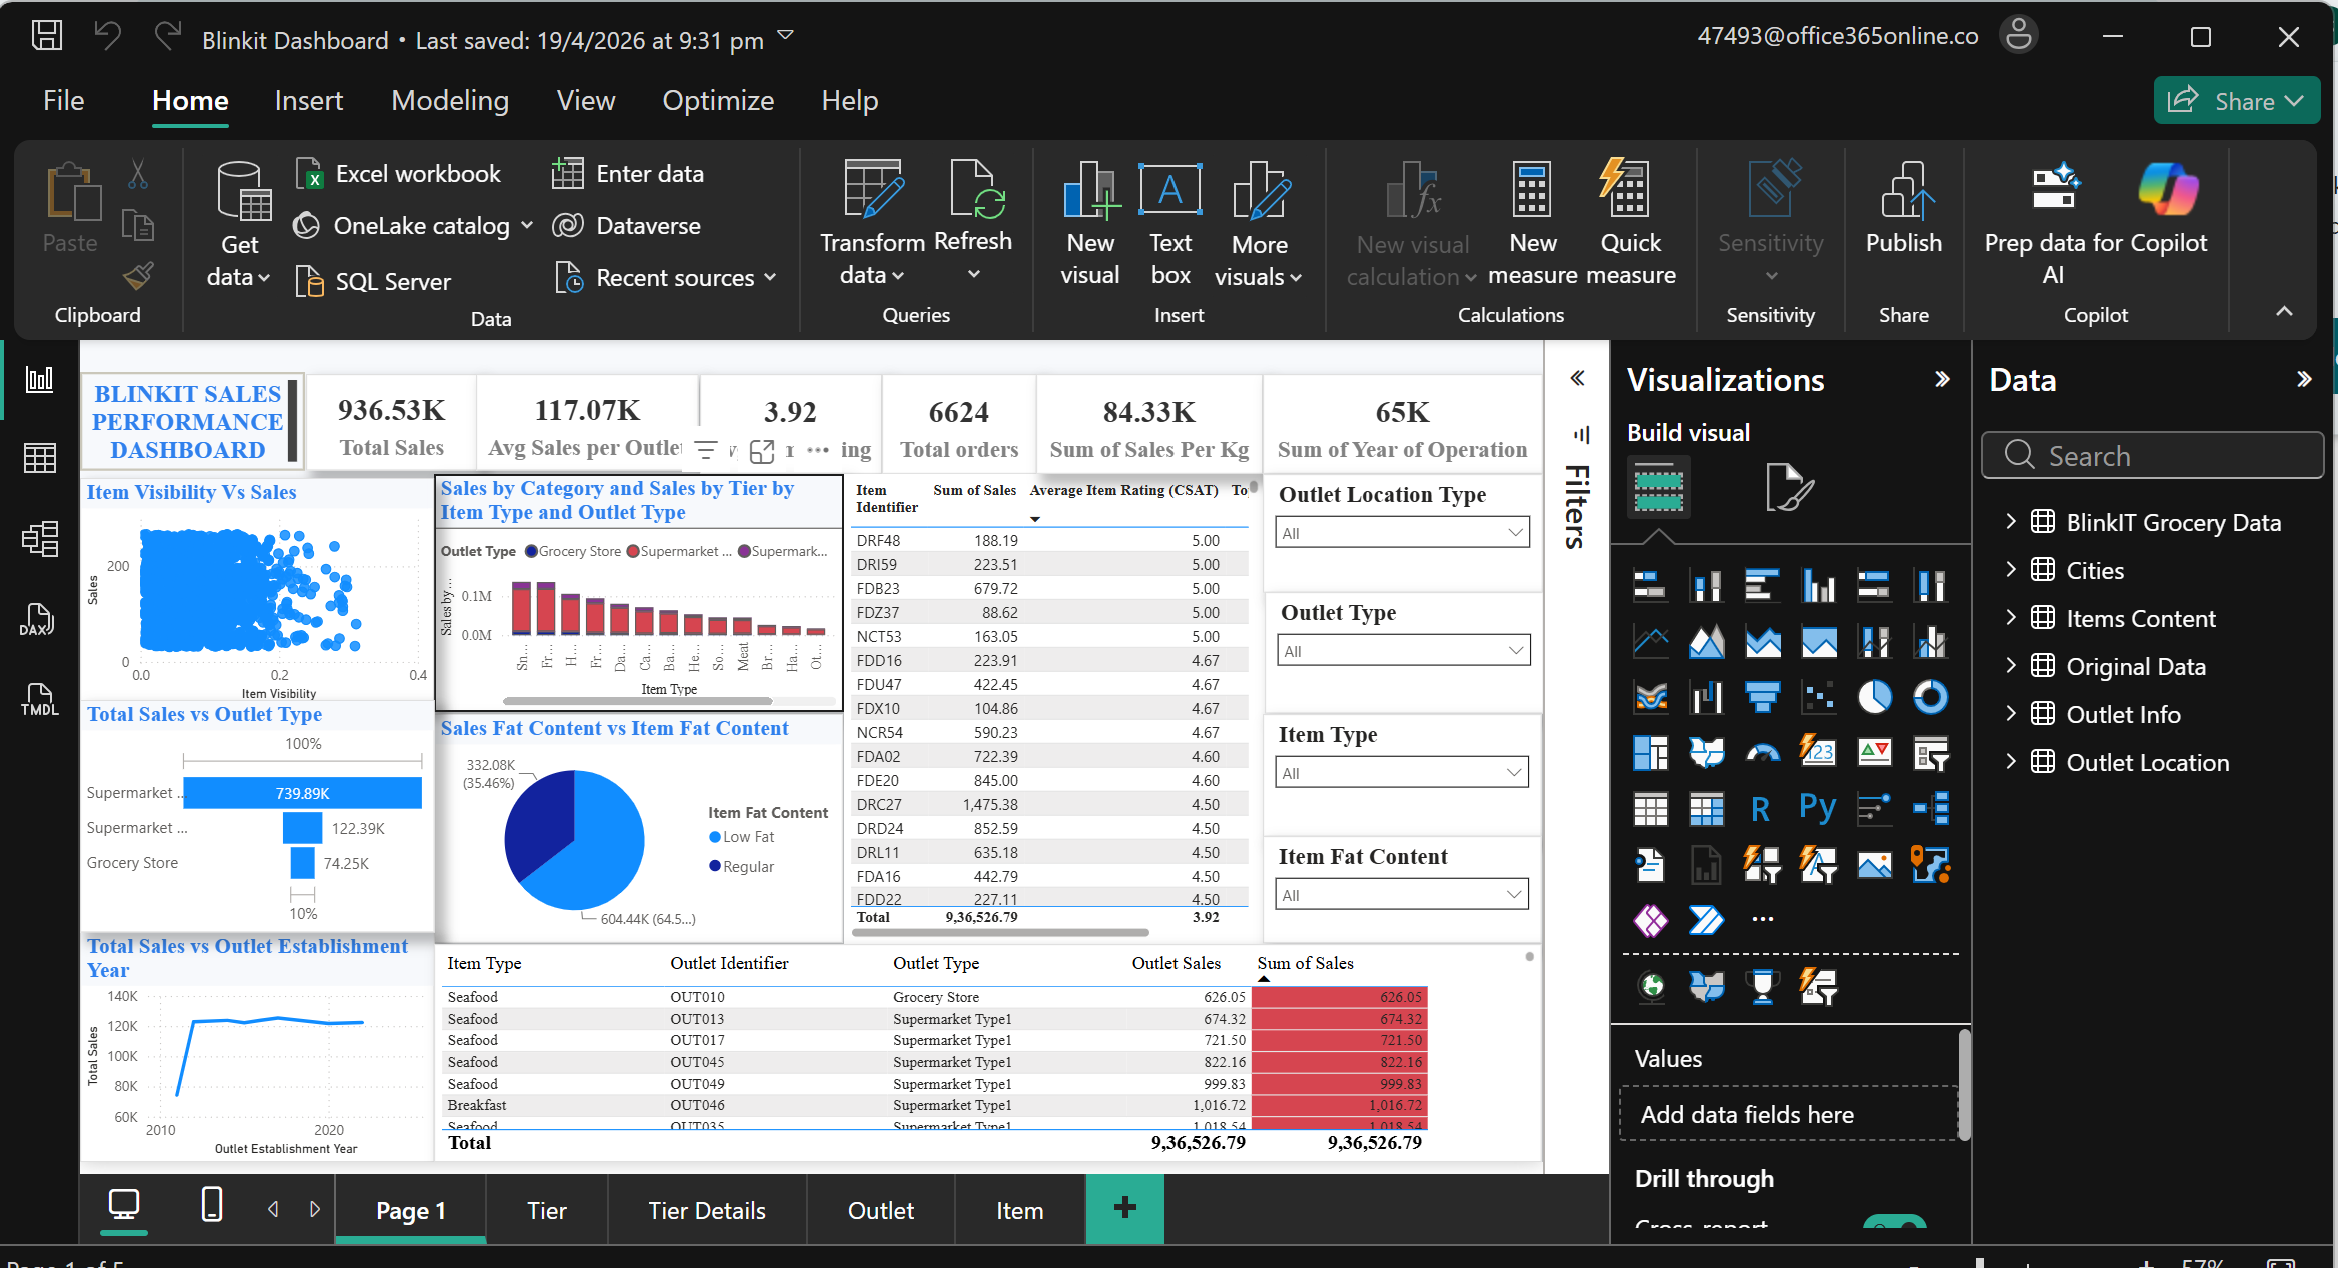

The dashboard page shown, as its layout file describes it:
{"tool":"powerbi","page":{"name":"Page 1","canvas":[1280,720],"ordinal":0},"visuals":[{"type":"card","fields":{"Values":["Original Data.Total Sales"]},"box":[197.1,29.5,150.1,84.7],"z":0},{"type":"card","fields":{"Values":["Original Data.Average Sales per Outlet"]},"box":[347.2,29.5,195.2,84.7],"z":1000},{"type":"card","fields":{"Values":["Original Data.Average Item Rating (CSAT)"]},"box":[542.4,29.5,159.3,87.5],"z":2000},{"type":"card","fields":{"Values":["Original Data.Total orders"]},"box":[701.7,29.5,135.4,87.5],"z":3000},{"type":"columnChart","fields":{"Category":["Original Data.Item Type"],"Series":["Original Data.Outlet Type"],"Y":["Original Data.Sales by Category"]},"box":[310.3,116.9,358.2,208.1],"z":4000},{"type":"pieChart","title":"Sales Fat Content vs Item Fat Content","fields":{"Category":["Original Data.Item Fat Content"],"Y":["Original Data.Sales by Fat Content"]},"box":[310.3,326.9,358.2,200.7],"z":5000},{"type":"lineChart","title":"Total Sales vs Outlet Establishment Year","fields":{"Category":["Original Data.Outlet Establishment Year"],"Y":["Original Data.Total Sales"]},"box":[0,518.4,310.3,201.7],"z":6000},{"type":"scatterChart","title":"Item Visibility Vs Sales","fields":{"X":["Original Data.Item Visibility"],"Y":["Original Data.Sales"]},"box":[0,121.1,309.8,201],"z":7000},{"type":"tableEx","fields":{"Values":["Original Data.Item Identifier","Sum(Original Data.Sales)","Original Data.Average Item Rating (CSAT)","Original Data.Top Performing Item"]},"box":[668.2,117.3,367.3,410.9],"z":8000},{"type":"funnel","title":"Total Sales vs Outlet Type","fields":{"Category":["Original Data.Outlet Type"],"Y":["Original Data.Total Sales"]},"box":[0,314.9,310.3,203.5],"z":9000},{"type":"card","fields":{"Values":["Sum(Original Data.Sales Per Kg)"]},"box":[837.1,29.5,198,87.5],"z":10000},{"type":"card","fields":{"Values":["Sum(Original Data.Year of Operation)"]},"box":[1035.1,29.5,244.9,87.5],"z":11000},{"type":"slicer","fields":{"Values":["Original Data.Outlet Location Type"]},"box":[1035,117.5,245,103.8],"z":12000},{"type":"slicer","fields":{"Values":["Original Data.Outlet Type"]},"box":[1036.2,221.2,243.8,106.2],"z":13000},{"type":"slicer","fields":{"Values":["Original Data.Item Type"]},"box":[1035,327.5,243.8,107.5],"z":14000},{"type":"slicer","fields":{"Values":["Original Data.Item Fat Content"]},"box":[1035,435,243.8,93.8],"z":15000},{"type":"tableEx","fields":{"Values":["Original Data.Item Type","Original Data.Outlet Identifier","Original Data.Outlet Type","Original Data.Outlet Sales","Sum(Original Data.Sales)"]},"box":[309.4,529.3,969.1,191.1],"z":16000},{"type":"textbox","box":[0,27.6,197.1,86.6],"z":17000}]}

Visuals, with their boxes on the page's 1280x720 design canvas (x1, y1, x2, y2). These are canvas units, not pixel positions in the 2338x1268 screenshot, which may show the page scaled, cropped or inside an application window:
card - Original Data.Total Sales: [left=197, top=30, right=347, bottom=114]
card - Original Data.Average Sales per Outlet: [left=347, top=30, right=542, bottom=114]
card - Original Data.Average Item Rating (CSAT): [left=542, top=30, right=702, bottom=117]
card - Original Data.Total orders: [left=702, top=30, right=837, bottom=117]
columnChart - Original Data.Item Type x Original Data.Outlet Type: [left=310, top=117, right=668, bottom=325]
"Sales Fat Content vs Item Fat Content" pieChart: [left=310, top=327, right=668, bottom=528]
"Total Sales vs Outlet Establishment Year" lineChart: [left=0, top=518, right=310, bottom=720]
"Item Visibility Vs Sales" scatterChart: [left=0, top=121, right=310, bottom=322]
tableEx - Original Data.Item Identifier x Sum(Original Data.Sales): [left=668, top=117, right=1036, bottom=528]
"Total Sales vs Outlet Type" funnel: [left=0, top=315, right=310, bottom=518]
card - Sum(Original Data.Sales Per Kg): [left=837, top=30, right=1035, bottom=117]
card - Sum(Original Data.Year of Operation): [left=1035, top=30, right=1280, bottom=117]
slicer - Original Data.Outlet Location Type: [left=1035, top=118, right=1280, bottom=221]
slicer - Original Data.Outlet Type: [left=1036, top=221, right=1280, bottom=327]
slicer - Original Data.Item Type: [left=1035, top=328, right=1279, bottom=435]
slicer - Original Data.Item Fat Content: [left=1035, top=435, right=1279, bottom=529]
tableEx - Original Data.Item Type x Original Data.Outlet Identifier: [left=309, top=529, right=1278, bottom=720]
textbox: [left=0, top=28, right=197, bottom=114]
